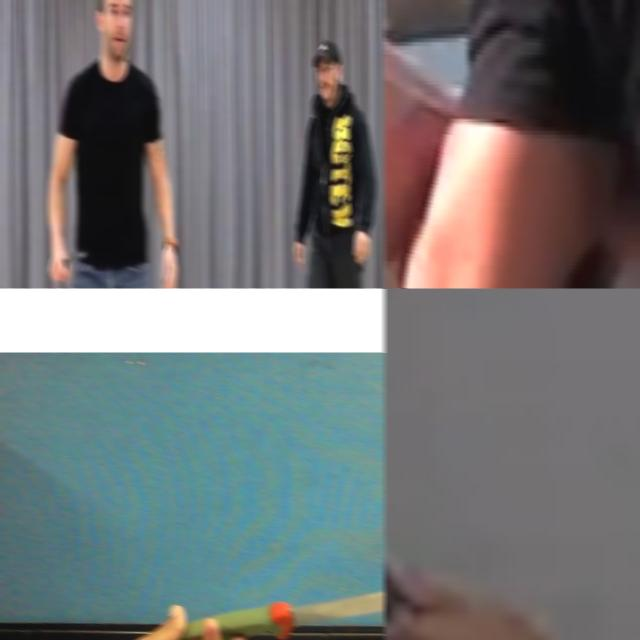Knife: (212, 592, 385, 640)
Knife_Handle: (383, 350, 561, 640), (46, 248, 88, 284)
